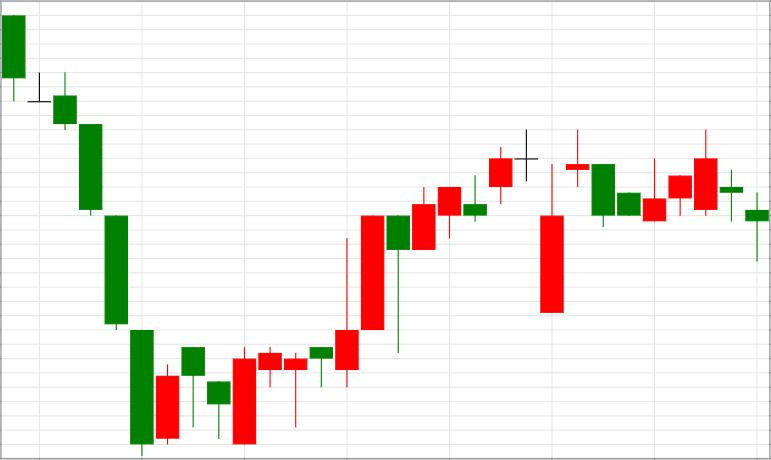hanging_man_fall: (233, 216, 409, 444)
